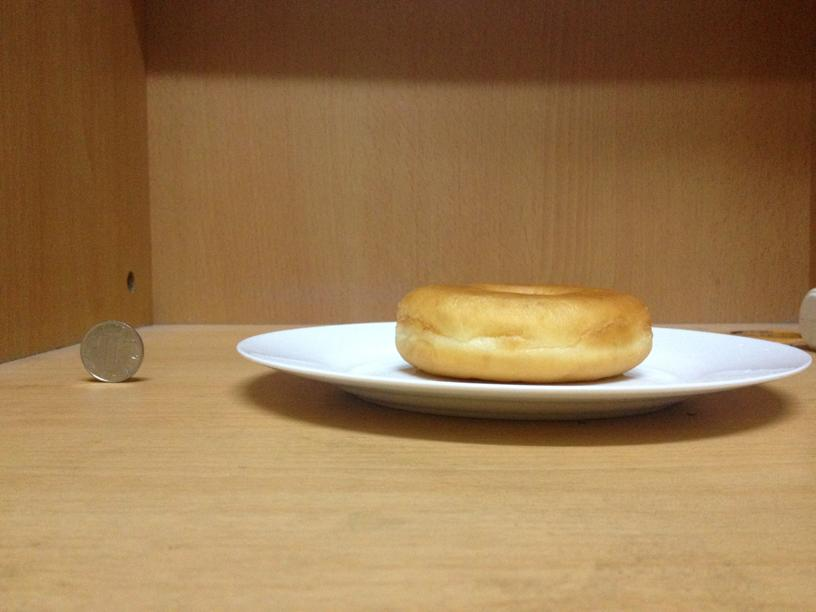coin: (79, 320, 143, 381)
doughnut: (394, 282, 653, 379)
